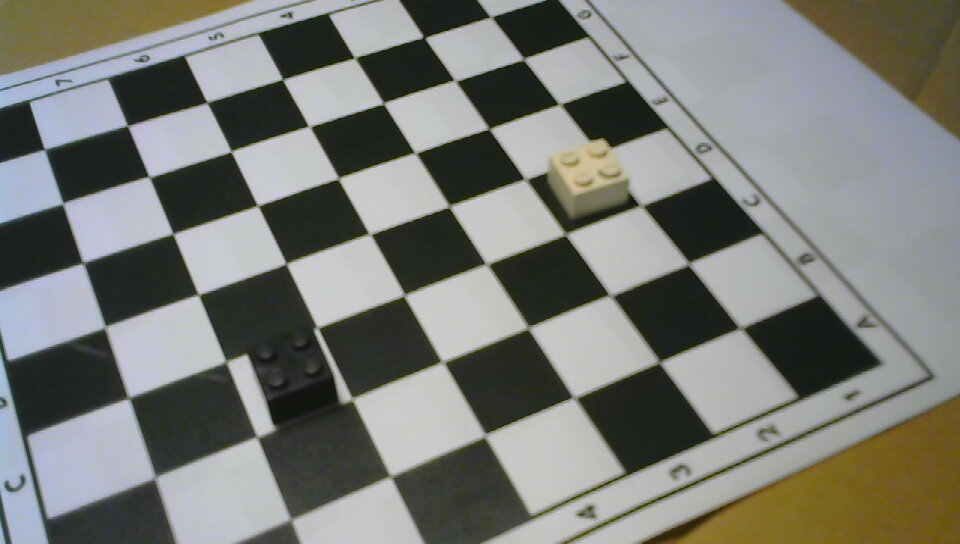bp: (248, 330, 336, 423)
wp: (545, 137, 628, 217)
